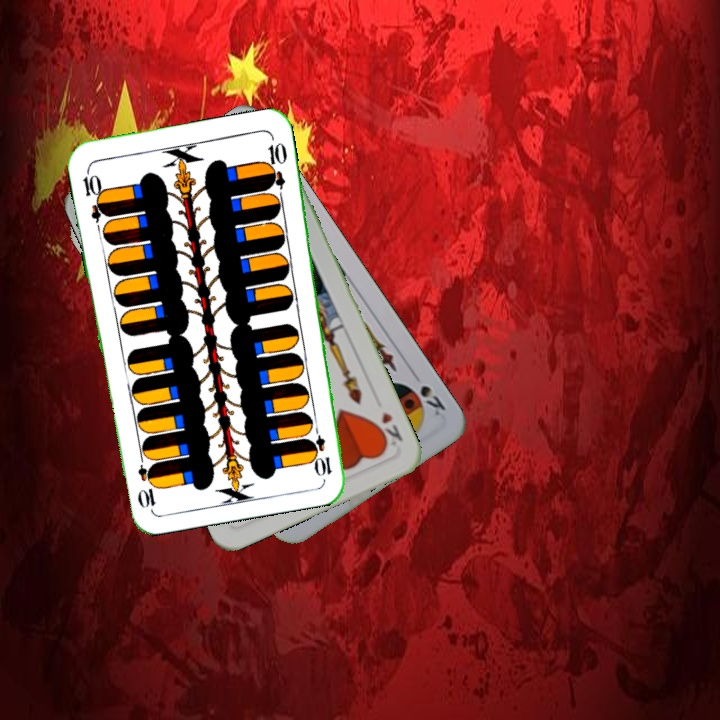E10: (78, 165, 110, 224), (308, 420, 334, 479)
HK: (371, 407, 405, 450)
SK: (407, 367, 449, 419)
